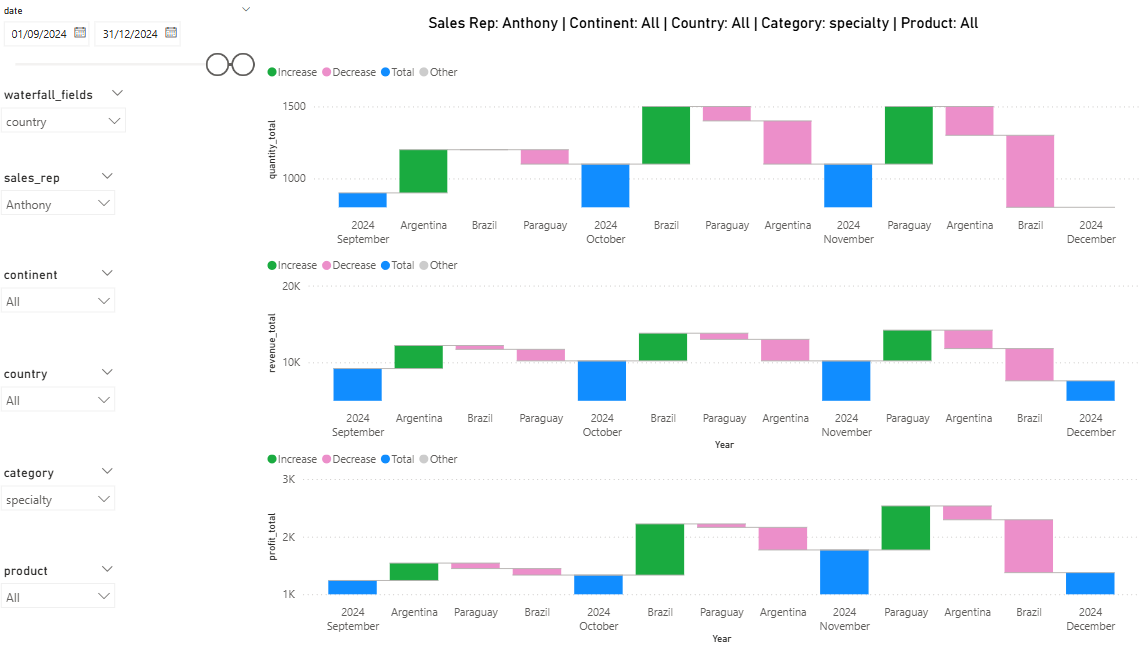

The page's visual inventory and layout, read from the dashboard file:
{"tool":"powerbi","page":{"name":"waterfall","canvas":[1280,720],"ordinal":1},"visuals":[{"type":"slicer","fields":{"Values":["data.date"]},"box":[0,0,299.8,92.4],"z":0},{"type":"slicer","fields":{"Values":["waterfall_fields.waterfall_fields"]},"box":[0,91.7,158.3,60],"z":1000},{"type":"waterfallChart","fields":{"Breakdown":["data.country"],"Category":["data.date.Variation.Date Hierarchy.Year","data.date.Variation.Date Hierarchy.Month"],"Y":["vars.quantity_total"]},"box":[391.7,50,888.3,230],"z":2000},{"type":"waterfallChart","fields":{"Breakdown":["data.country"],"Category":["data.date.Variation.Date Hierarchy.Year","data.date.Variation.Date Hierarchy.Month"],"Y":["vars.quantity_total"]},"box":[300,60,980,230],"z":3000},{"type":"waterfallChart","fields":{"Breakdown":["data.country"],"Category":["data.date.Variation.Date Hierarchy.Year","data.date.Variation.Date Hierarchy.Month"],"Y":["vars.profit_total"]},"box":[300,490,980,230],"z":4000},{"type":"waterfallChart","fields":{"Breakdown":["data.country"],"Category":["data.date.Variation.Date Hierarchy.Year","data.date.Variation.Date Hierarchy.Month"],"Y":["vars.revenue_total"]},"box":[300,275,980,230],"z":5000},{"type":"slicer","fields":{"Values":["Sheet1.sales_rep"]},"box":[0,183,146.9,98.4],"z":6000},{"type":"slicer","fields":{"Values":["data.continent"]},"box":[0,292.4,146.9,98.4],"z":7000},{"type":"slicer","fields":{"Values":["data.country"]},"box":[0,401.8,146.9,98.4],"z":8000},{"type":"slicer","fields":{"Values":["data.category"]},"box":[0,511.2,146.9,98.4],"z":9000},{"type":"slicer","fields":{"Values":["data.product"]},"box":[0,620.6,146.9,98.4],"z":10000},{"type":"card","fields":{"Values":["vars.text_selected_filters"]},"box":[300,0,980,50],"z":11000}]}

Visuals, with their boxes on the page's 1280x720 design canvas (x1, y1, x2, y2). These are canvas units, not pixel positions in the 1140x645 screenshot, which may show the page scaled, cropped or inside an application window:
slicer - data.date: 0 0 300 92
slicer - waterfall_fields.waterfall_fields: 0 92 158 152
waterfallChart - data.country x data.date.Variation.Date Hierarchy.Year: 392 50 1280 280
waterfallChart - data.country x data.date.Variation.Date Hierarchy.Year: 300 60 1280 290
waterfallChart - data.country x data.date.Variation.Date Hierarchy.Year: 300 490 1280 720
waterfallChart - data.country x data.date.Variation.Date Hierarchy.Year: 300 275 1280 505
slicer - Sheet1.sales_rep: 0 183 147 281
slicer - data.continent: 0 292 147 391
slicer - data.country: 0 402 147 500
slicer - data.category: 0 511 147 610
slicer - data.product: 0 621 147 719
card - vars.text_selected_filters: 300 0 1280 50
